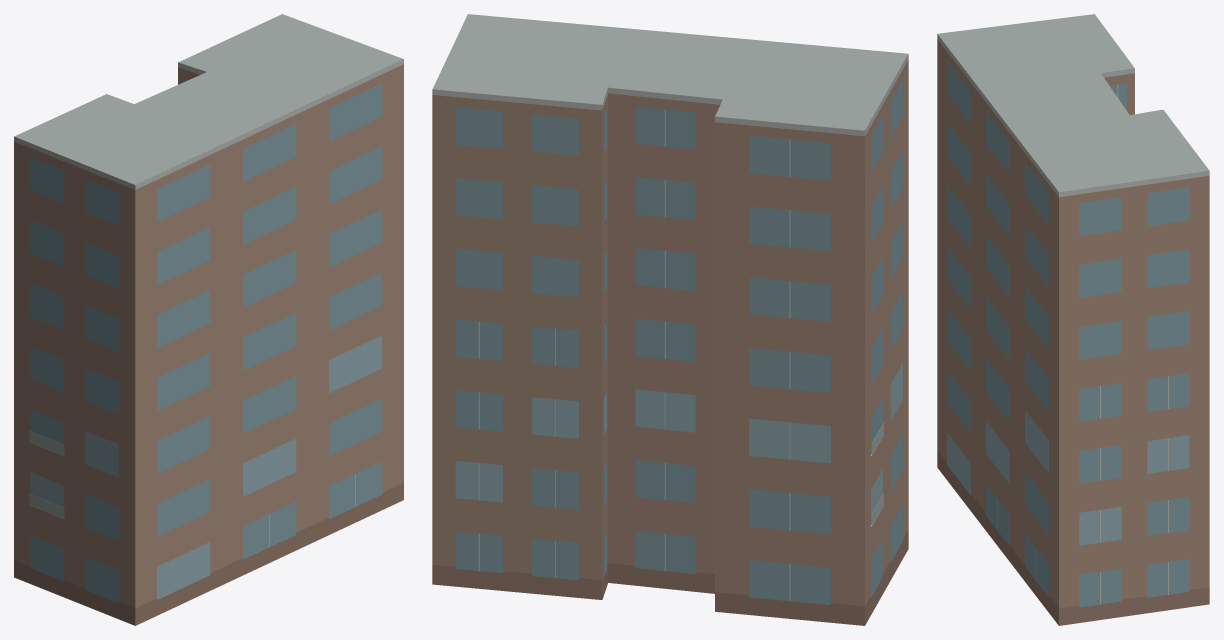
The model's file is survey-upis-32569792.glb.
3 views of the same model, side by side, from view 1: azimuth 30°, elevation 25°; view 2: azimuth 150°, elevation 25°; view 3: azimuth 270°, elevation 25° (orthographic). The views are drawn at different scales.
Visible parts, largest first — view 1: survey-upis-32569792.tmp; view 2: survey-upis-32569792.tmp; view 3: survey-upis-32569792.tmp.
Boxes of the visible parts, x1,y1,x2,y2 form: survey-upis-32569792.tmp: (14, 14, 403, 625); survey-upis-32569792.tmp: (432, 14, 908, 625); survey-upis-32569792.tmp: (937, 14, 1209, 625).
Size of the model in its own units: 18.93 by 21.45 by 12.22.
